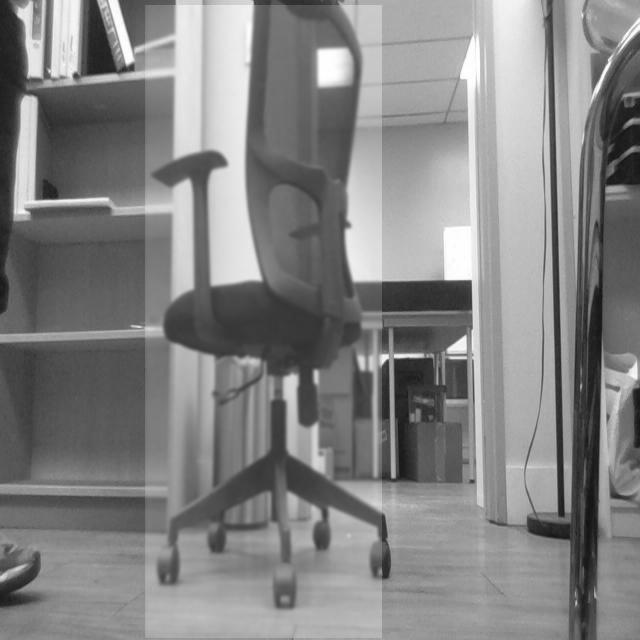chair: (152, 0, 390, 610)
light: (304, 33, 357, 100), (447, 37, 485, 85)
table: (254, 277, 485, 498)
